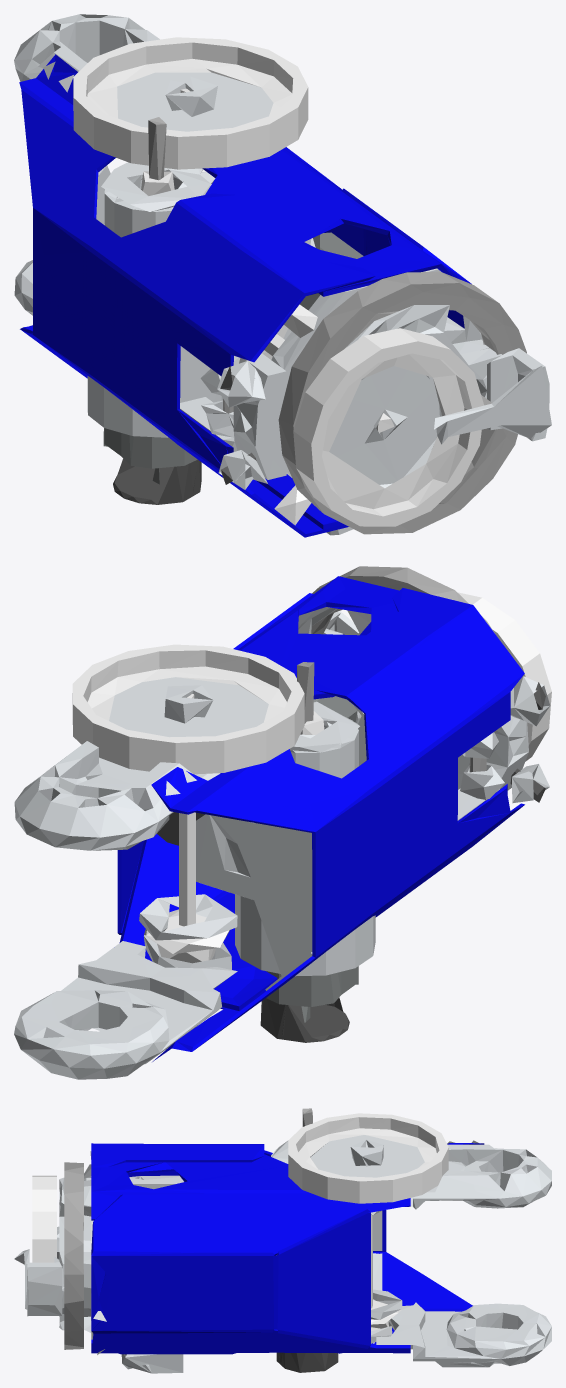
Rendered from RARM_LINK2_mesh.dae.
3 renders of one model, top to bottom at view 1: azimuth 30°, elevation 25°; view 2: azimuth 150°, elevation 25°; view 3: azimuth 270°, elevation 25°, orthographic. The views are drawn at different scales.
Parts seen in each view (by area): view 1: RARM_LINK2 (×24); view 2: RARM_LINK2 (×21); view 3: RARM_LINK2 (×18).
Part boxes in pixels (x1,y1,x2,y2): RARM_LINK2 (×24): (14,14,551,537); RARM_LINK2 (×21): (14,566,551,1079); RARM_LINK2 (×18): (14,1113,551,1373).
Size of the model in its own units: 0.0911 by 0.1121 by 0.2189.
